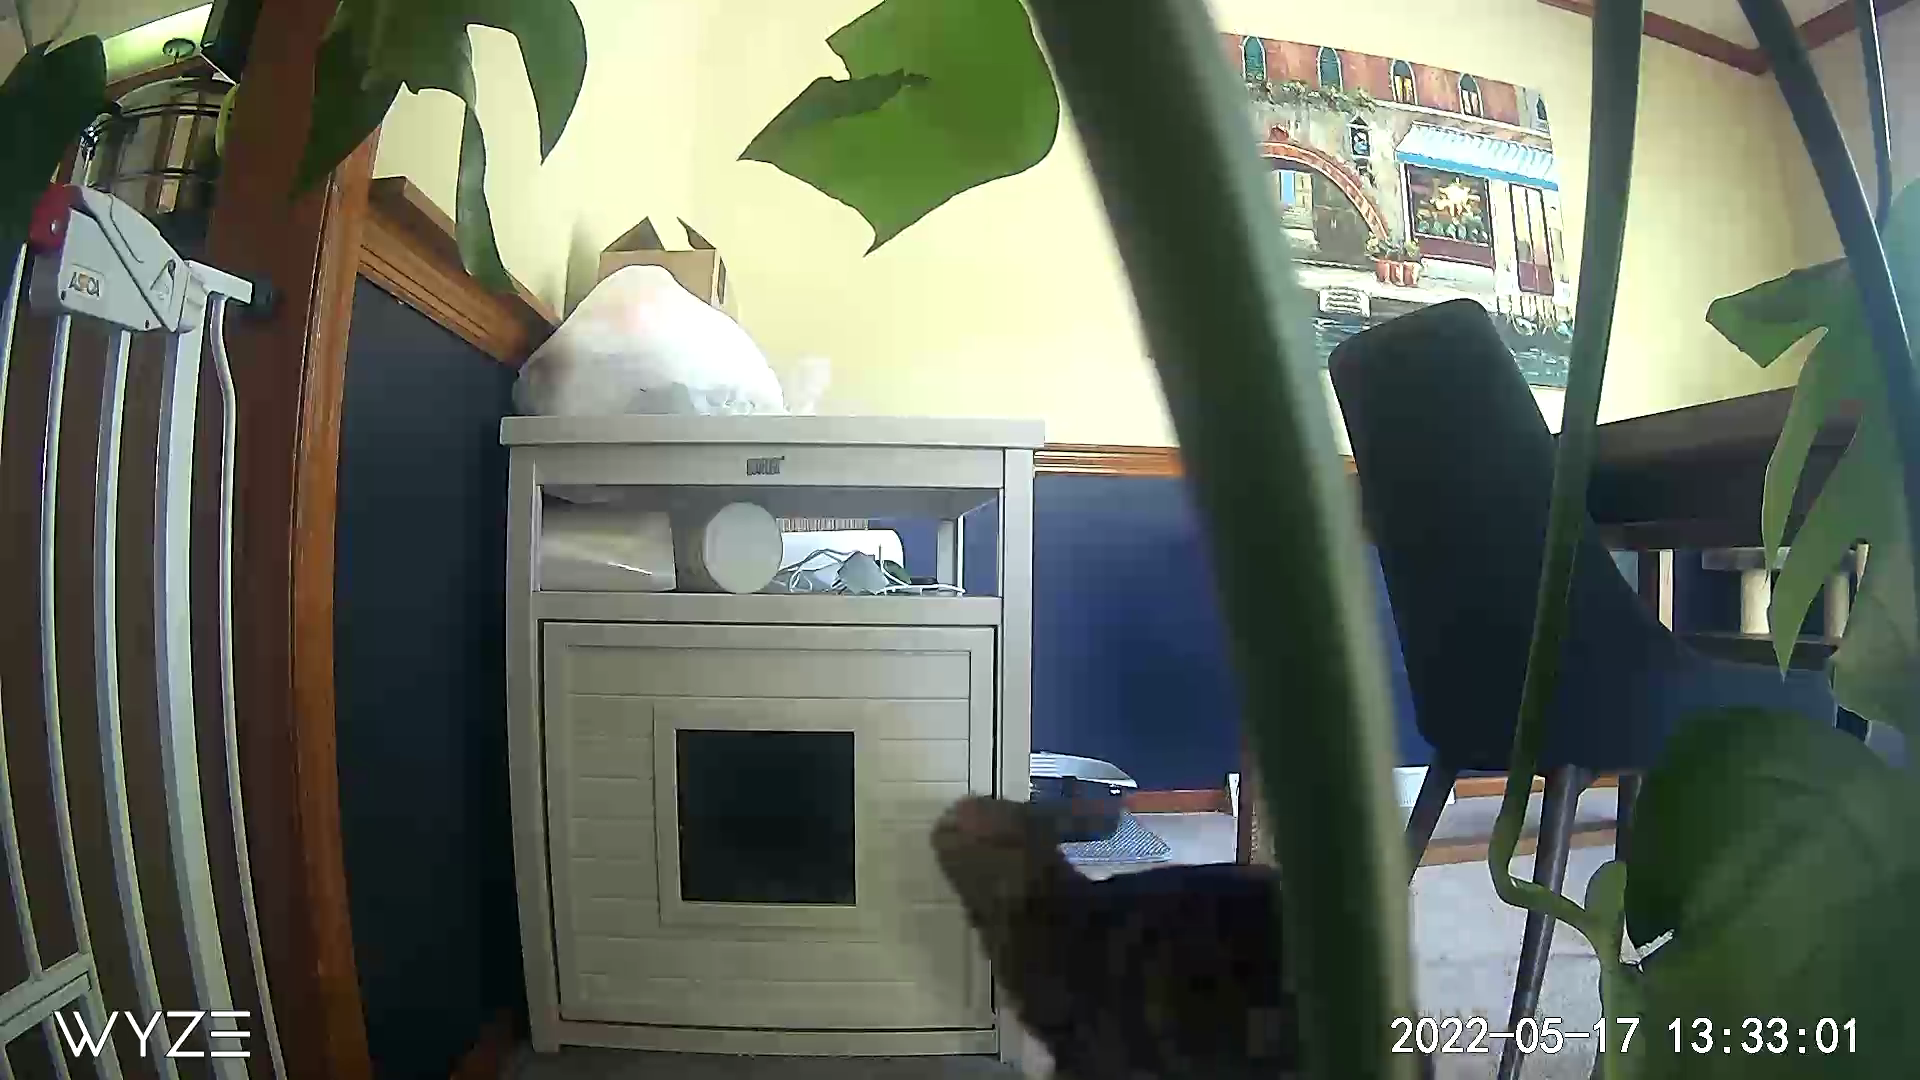sparky: (906, 775, 1269, 1052)
